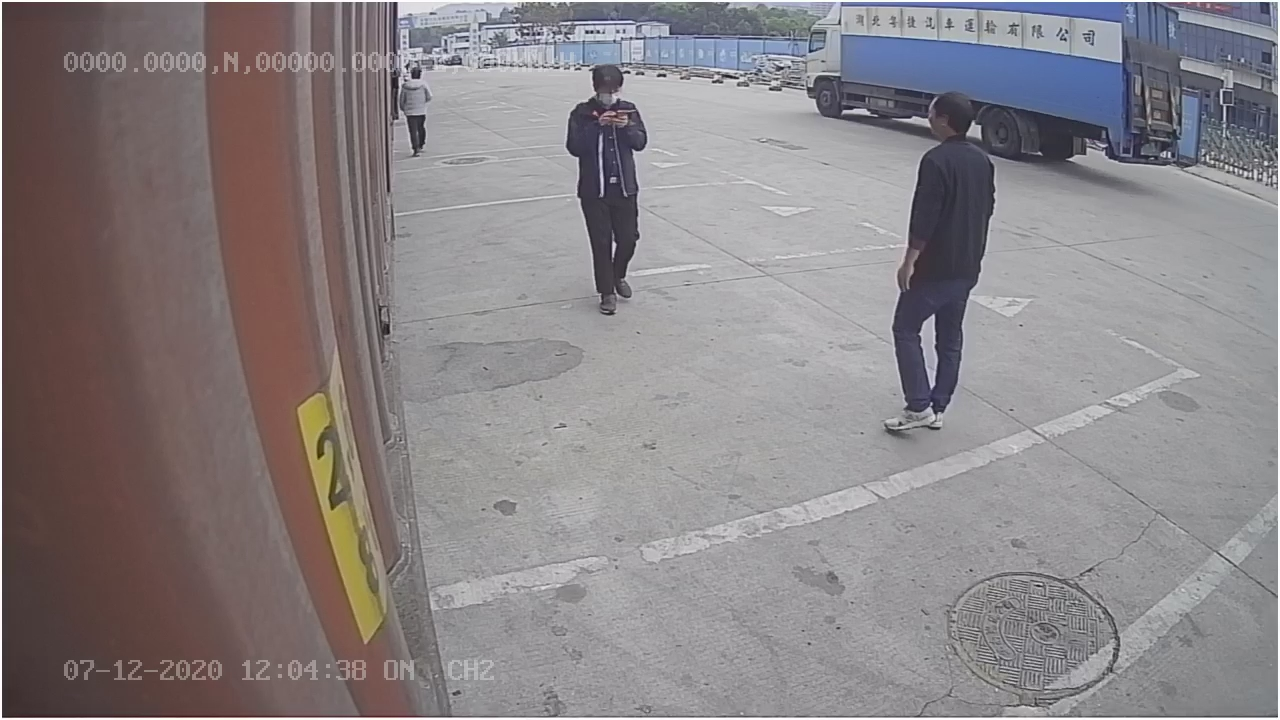person: (565, 62, 648, 316)
